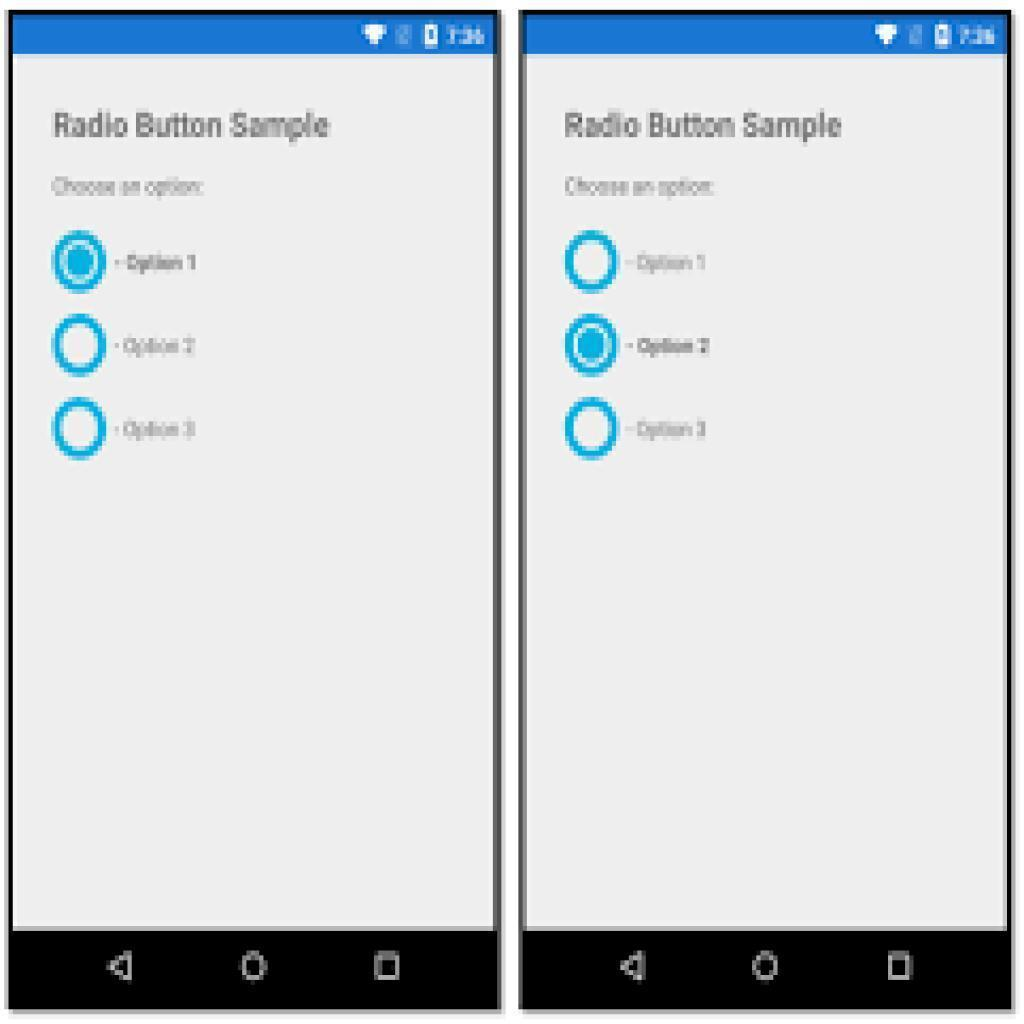label: (560, 106, 846, 146), (50, 106, 334, 146), (634, 329, 716, 363), (123, 247, 202, 282), (634, 247, 710, 280), (634, 416, 711, 447), (120, 416, 198, 446), (121, 333, 198, 362)
radio: (50, 230, 109, 299), (50, 309, 108, 378), (50, 396, 108, 463), (563, 313, 620, 381), (563, 397, 620, 461), (566, 230, 620, 294)
